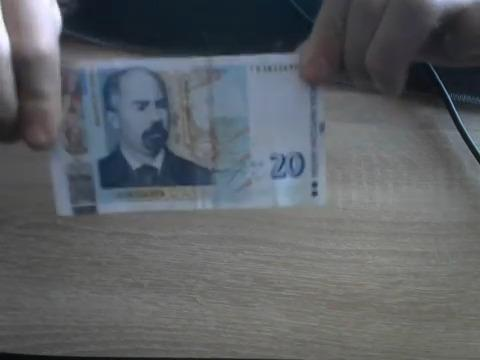20leva: (152, 67, 294, 183)
